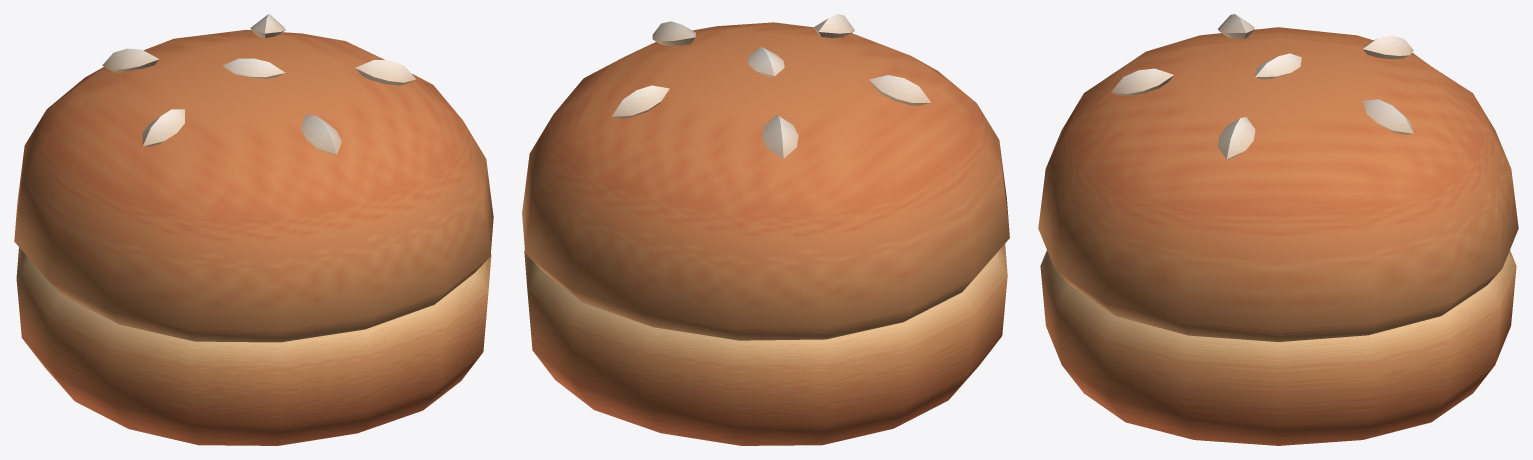
Rendered from food_ingredient_bun.gltf.
3 renders of one model, left to right at view 1: azimuth 30°, elevation 25°; view 2: azimuth 150°, elevation 25°; view 3: azimuth 270°, elevation 25°, orthographic.
Visible parts, largest first — view 1: food_ingredient_bun; view 2: food_ingredient_bun; view 3: food_ingredient_bun.
Part boxes in pixels (<box>): food_ingredient_bun: <box>14,14,493,445</box>; food_ingredient_bun: <box>522,14,1009,445</box>; food_ingredient_bun: <box>1038,14,1518,445</box>.
Size of the model in its own units: 0.7 by 0.5072 by 0.7.
Materials: 1 (1 with a texture image).
